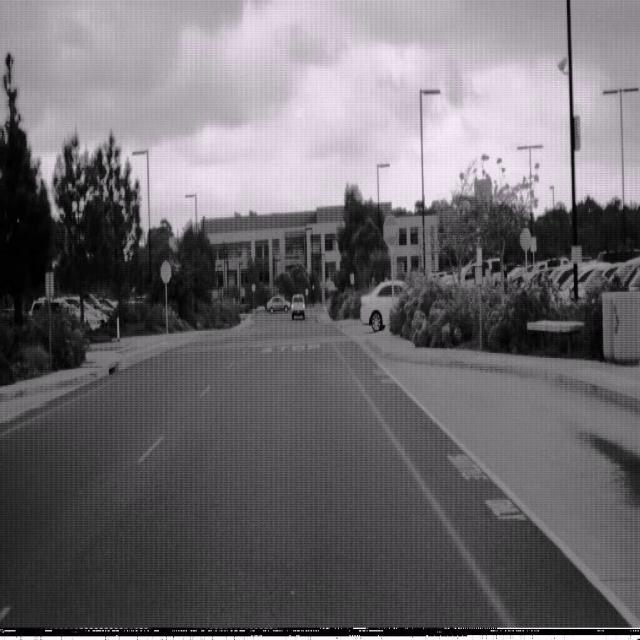stop_sign: (382, 213, 399, 248)
